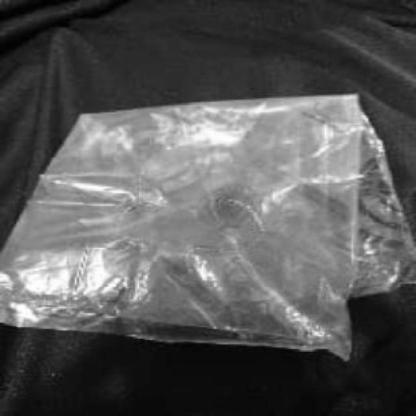objects: (0, 93, 414, 356)
